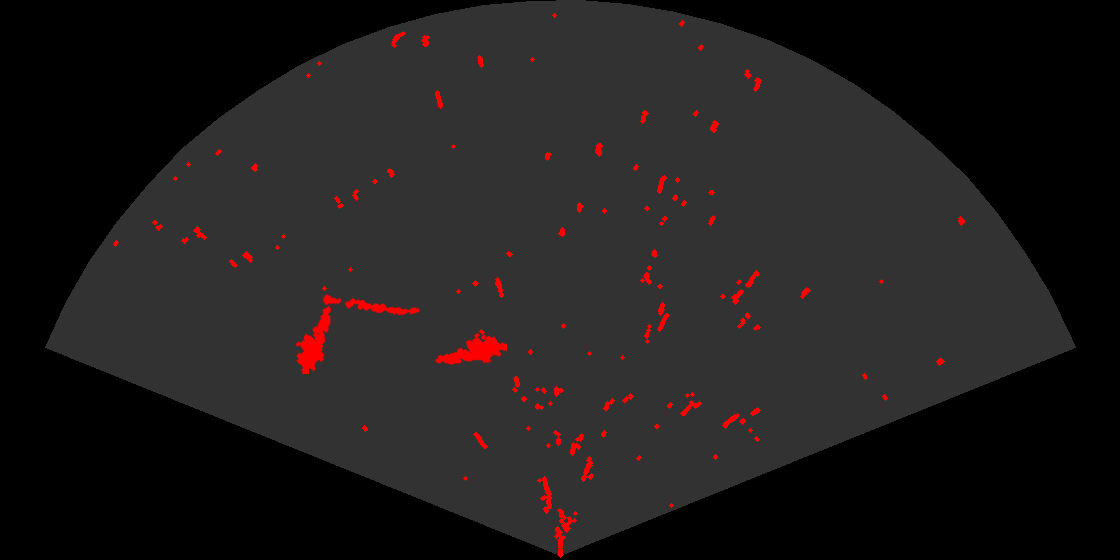chain: (320, 293, 422, 317)
frogman: (294, 305, 332, 374), (433, 331, 507, 366)
